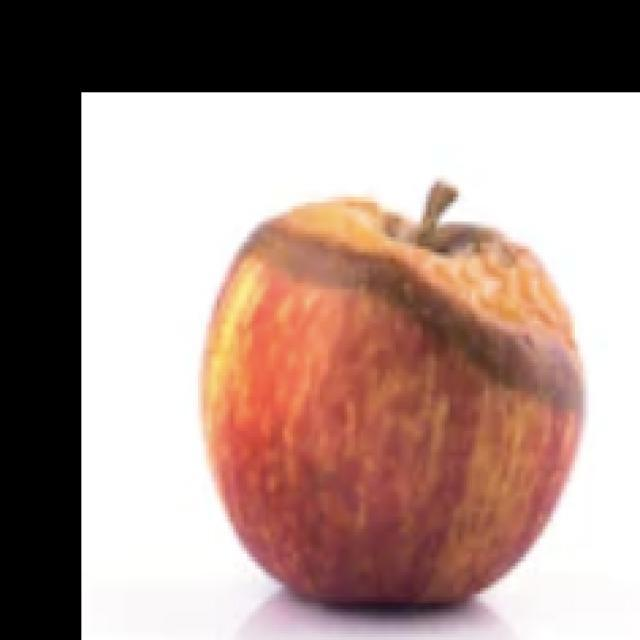Rotten: (195, 196, 581, 640)
